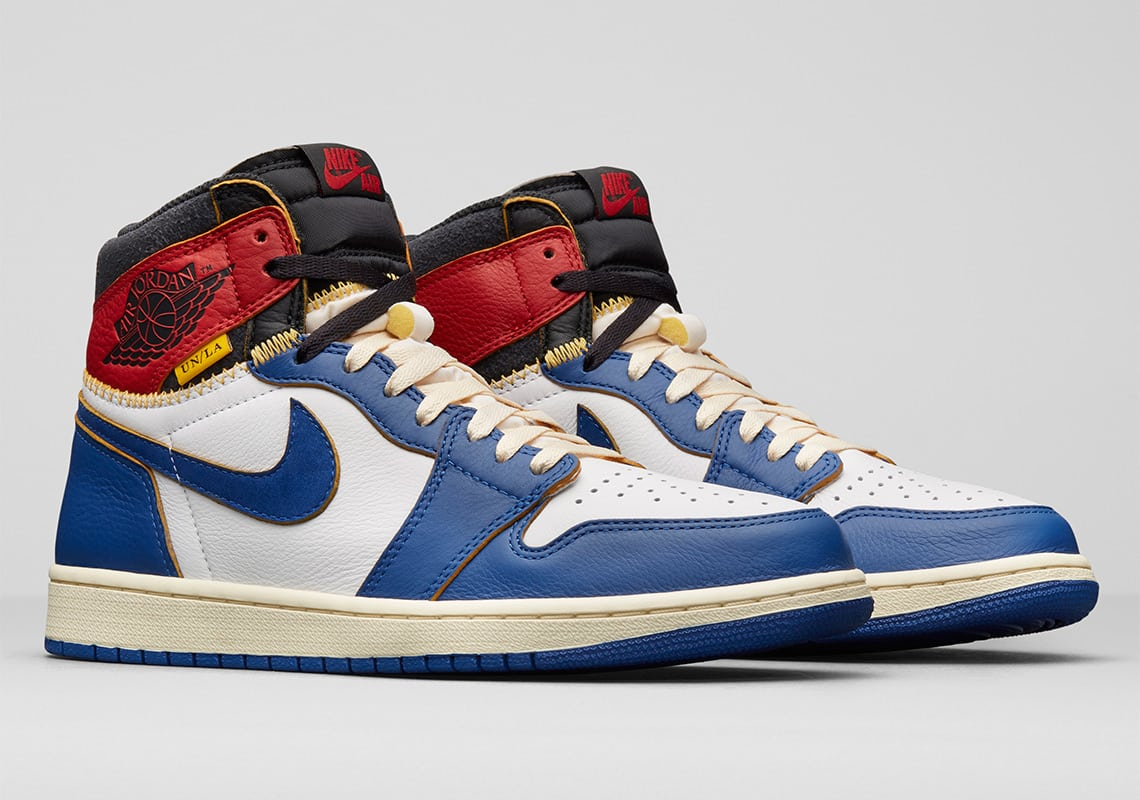Jordan 1: (34, 127, 1112, 695)
